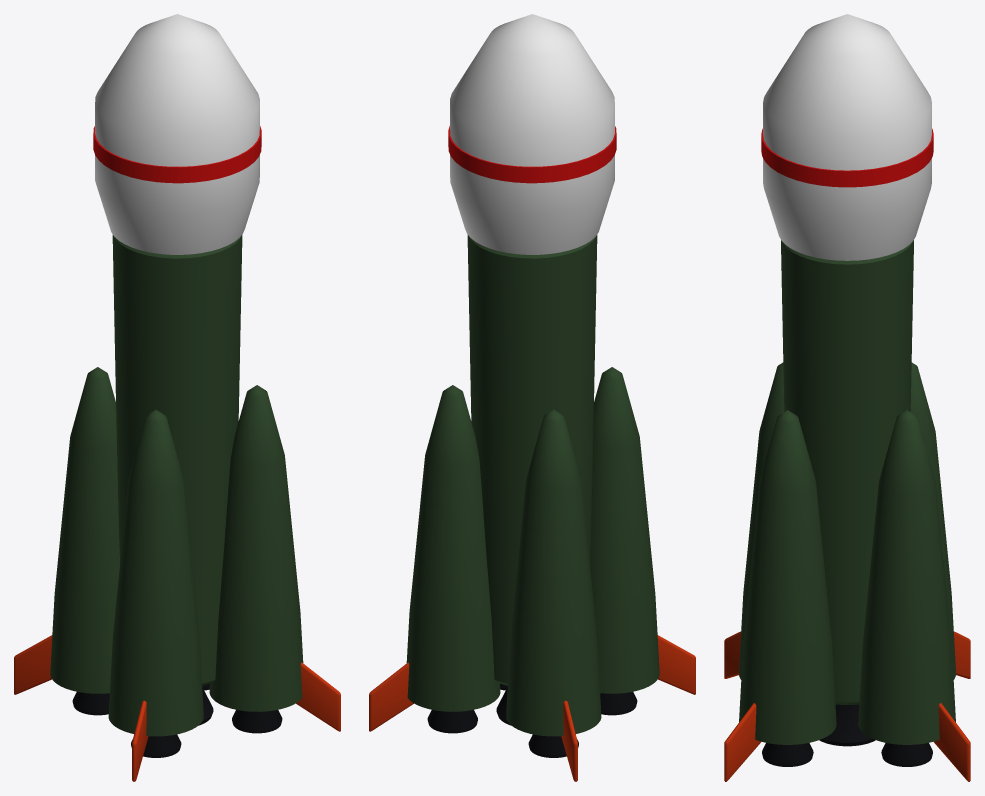
Rendered from Rocket_14_Soyuz.obj.
3 views of the same model, side by side, from view 1: azimuth 30°, elevation 25°; view 2: azimuth 150°, elevation 25°; view 3: azimuth 270°, elevation 25° (orthographic). The views are drawn at different scales.
Parts seen in each view (by area): view 1: R14_Core, R14_Fairing, R14_Booster_3, R14_Booster_4, R14_Booster_2, R14_Band, R14_BoosterFin_4, R14_BoosterFin_2, R14_Nozzle_5, R14_BoosterFin_3, R14_Nozzle_3, R14_Nozzle_4; view 2: R14_Core, R14_Fairing, R14_Booster_2, R14_Booster, R14_Booster_3, R14_Band, R14_BoosterFin, R14_BoosterFin_3, R14_Nozzle_2, R14_BoosterFin_2, R14_Nozzle_4, R14_Nozzle_3; view 3: R14_Core, R14_Fairing, R14_Booster, R14_Booster_4, R14_Band, R14_Booster_2, R14_Booster_3, R14_BoosterFin, R14_BoosterFin_4, R14_Nozzle, R14_Nozzle_2, R14_Nozzle_5 (+2 smaller).
Part boxes in pixels (<box>): R14_Core: <box>112,235,242,685</box>; R14_Fairing: <box>95,14,259,254</box>; R14_Booster_3: <box>108,409,203,736</box>; R14_Booster_4: <box>209,385,303,711</box>; R14_Booster_2: <box>50,367,119,693</box>; R14_Band: <box>93,126,261,183</box>; R14_BoosterFin_4: <box>296,662,340,731</box>; R14_BoosterFin_2: <box>14,635,52,694</box>; R14_Nozzle_5: <box>232,710,282,733</box>; R14_BoosterFin_3: <box>132,700,148,781</box>; R14_Nozzle_3: <box>72,692,109,715</box>; R14_Nozzle_4: <box>131,734,181,757</box>; R14_Core: <box>467,235,597,685</box>; R14_Fairing: <box>450,14,614,254</box>; R14_Booster_2: <box>506,409,601,736</box>; R14_Booster: <box>406,385,500,711</box>; R14_Booster_3: <box>590,367,659,693</box>; R14_Band: <box>448,126,616,183</box>; R14_BoosterFin: <box>369,662,413,731</box>; R14_BoosterFin_3: <box>657,635,695,694</box>; R14_Nozzle_2: <box>427,710,477,733</box>; R14_BoosterFin_2: <box>561,700,577,781</box>; R14_Nozzle_4: <box>600,692,637,715</box>; R14_Nozzle_3: <box>528,734,578,757</box>; R14_Core: <box>781,240,913,704</box>; R14_Fairing: <box>763,14,931,260</box>; R14_Booster: <box>858,410,955,744</box>; R14_Booster_4: <box>739,410,836,744</box>; R14_Band: <box>761,128,933,187</box>; R14_Booster_2: <box>910,362,955,679</box>; R14_Booster_3: <box>739,362,784,679</box>; R14_BoosterFin: <box>933,703,970,781</box>; R14_BoosterFin_4: <box>724,703,761,781</box>; R14_Nozzle: <box>819,704,875,746</box>; R14_Nozzle_2: <box>881,743,932,766</box>; R14_Nozzle_5: <box>762,743,813,766</box>.
Bounding box in the file's own units: 2.77 × 8.9 × 2.77.
